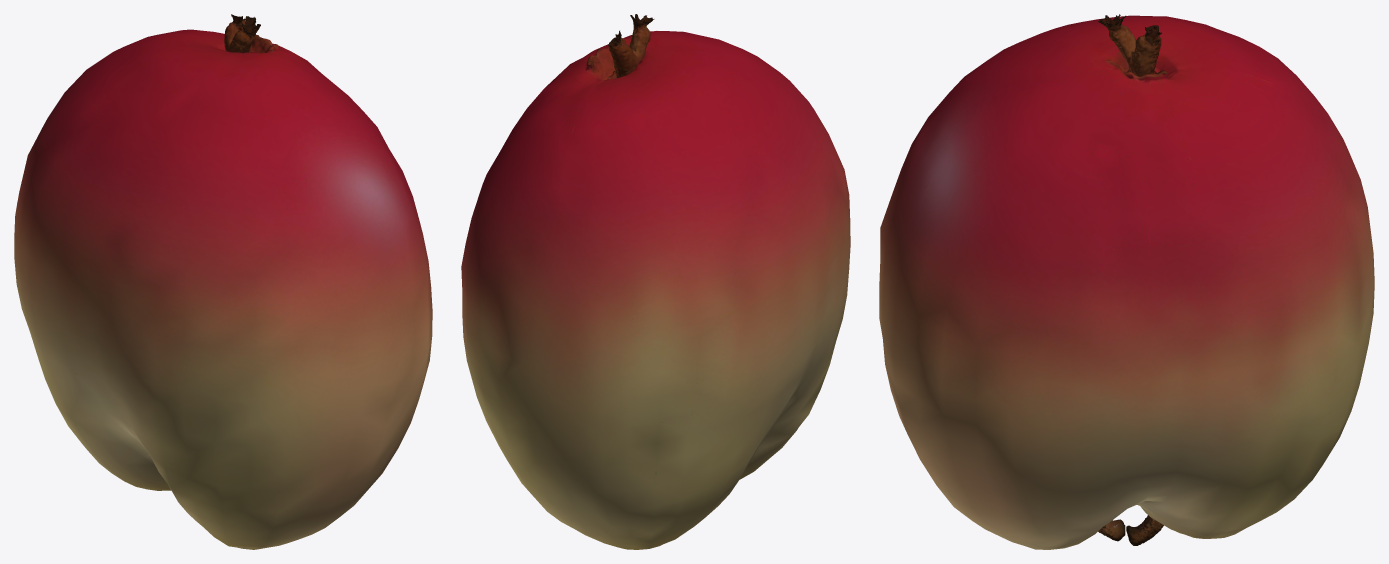
File: selected.fbx
3 views of the same model, side by side, from view 1: azimuth 30°, elevation 25°; view 2: azimuth 150°, elevation 25°; view 3: azimuth 270°, elevation 25° (orthographic). The views are drawn at different scales.
Parts seen in each view (by area): view 1: tripo_node_4e1ac37d-7570-4d68-b7d1-28b804dd50c8; view 2: tripo_node_4e1ac37d-7570-4d68-b7d1-28b804dd50c8; view 3: tripo_node_4e1ac37d-7570-4d68-b7d1-28b804dd50c8.
Boxes of the visible parts, x1,y1,x2,y2 form: tripo_node_4e1ac37d-7570-4d68-b7d1-28b804dd50c8: [14, 14, 432, 549]; tripo_node_4e1ac37d-7570-4d68-b7d1-28b804dd50c8: [461, 14, 850, 549]; tripo_node_4e1ac37d-7570-4d68-b7d1-28b804dd50c8: [879, 14, 1374, 549].
Bounding box in the file's own units: 67.91 × 100 × 83.17.
1 material, 1 textured.
